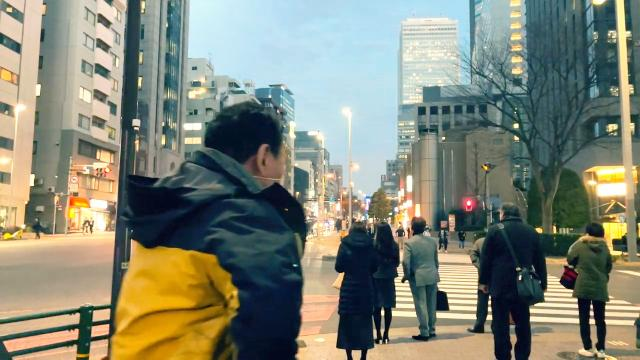berdiri: (482, 195, 548, 360), (562, 218, 616, 360), (338, 215, 380, 360), (398, 216, 446, 342), (364, 217, 398, 345)
berjalan: (115, 98, 313, 360)
